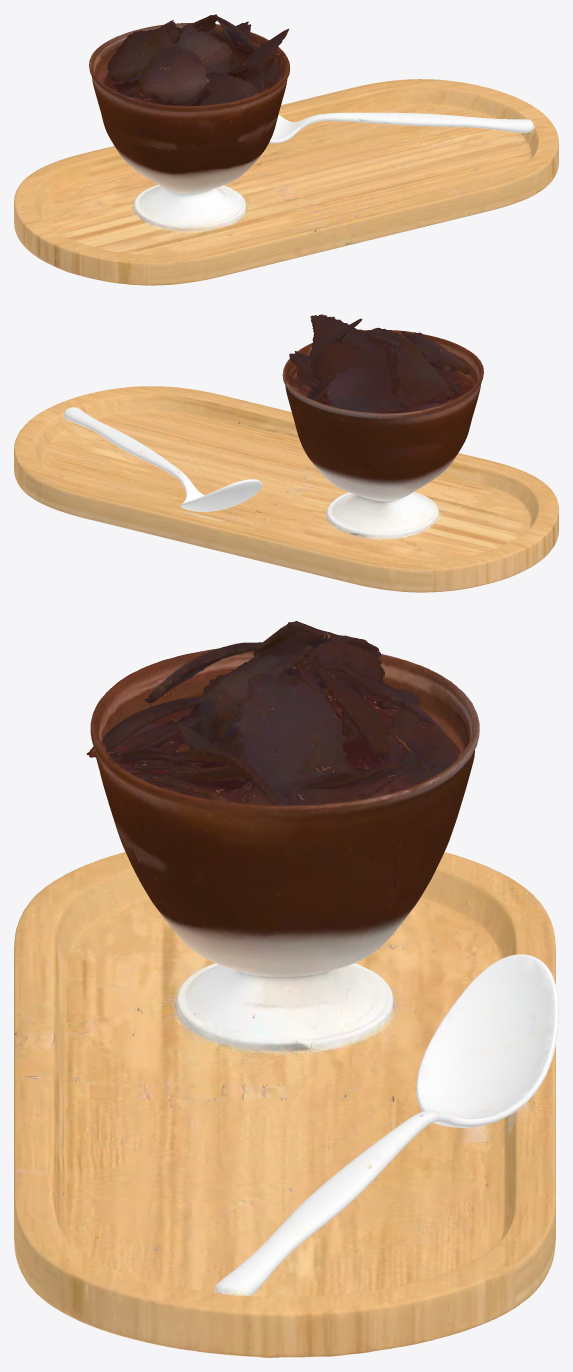
The model's file is Chocolate_Ice_Cream.glb.
The picture shows the model from 3 angles, top to bottom: view 1: azimuth 30°, elevation 25°; view 2: azimuth 150°, elevation 25°; view 3: azimuth 270°, elevation 25°; orthographic projection. The views are drawn at different scales.
Bounding box in the file's own units: 1.9 × 0.7005 × 0.904.
1 material, 1 textured.
